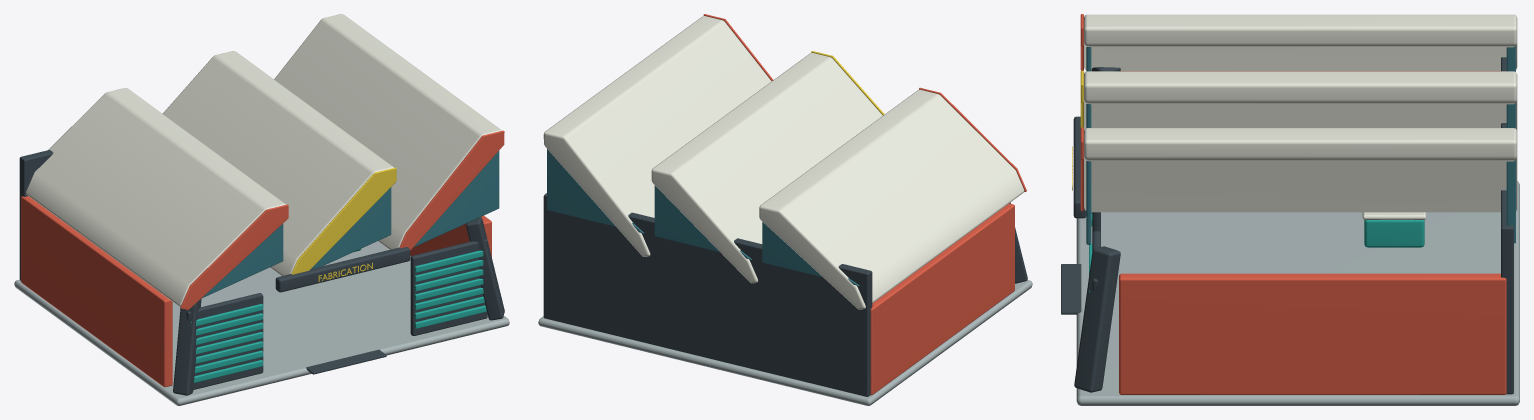
The model's file is aster_workshop.glb.
3 views of the same model, side by side, from view 1: azimuth 30°, elevation 25°; view 2: azimuth 150°, elevation 25°; view 3: azimuth 270°, elevation 25° (orthographic). The views are drawn at different scales.
Parts seen in each view (by area): view 1: aster_workshop; view 2: aster_workshop; view 3: aster_workshop.
Part boxes in pixels (x1,y1,x2,y2): aster_workshop: (14,14,509,405); aster_workshop: (538,14,1032,405); aster_workshop: (1061,14,1519,405).
Bounding box in the file's own units: 13.8 × 7.74 × 12.21.
